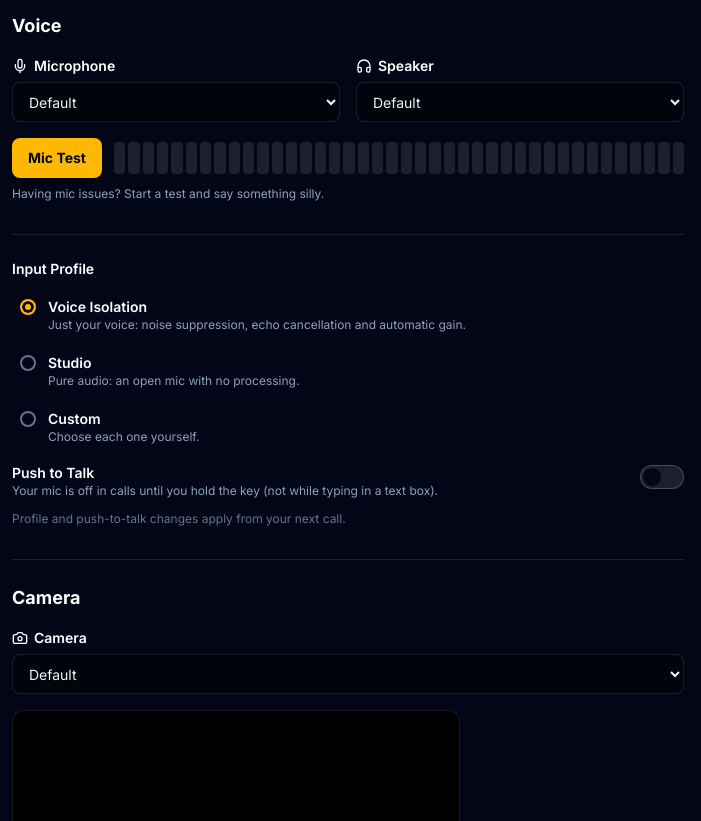
it: Voice & Video settings › explains when the mic test can't reach the microphone
Click the button "Mic Test" at coordinates (57, 158), box [12,138,102,178]
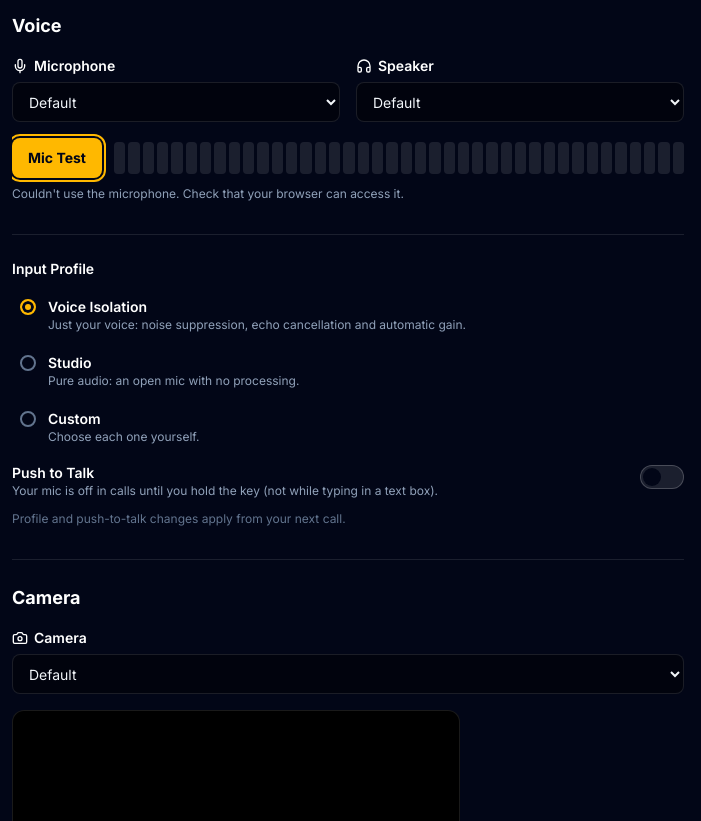
Now the text "Couldn't use the microphone" is shown, box [12,186,404,201]
